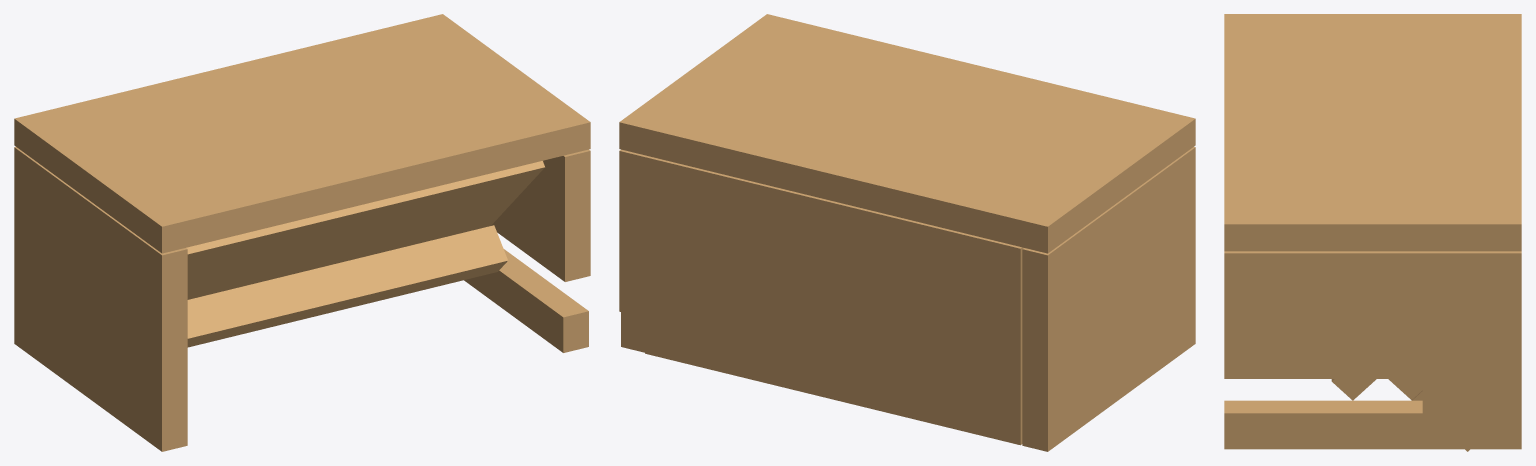
The model's file is tinker.obj.
3 views of the same model, side by side, from view 1: azimuth 30°, elevation 25°; view 2: azimuth 150°, elevation 25°; view 3: azimuth 270°, elevation 25° (orthographic).
Visible parts, largest first — view 1: group_0_14331510; view 2: group_0_14331510; view 3: group_0_14331510.
Part boxes in pixels (x1,y1,x2,y2): group_0_14331510: (14, 14, 590, 451); group_0_14331510: (619, 14, 1195, 451); group_0_14331510: (1224, 14, 1521, 451).
Size of the model in its own units: 251 by 134 by 150.
